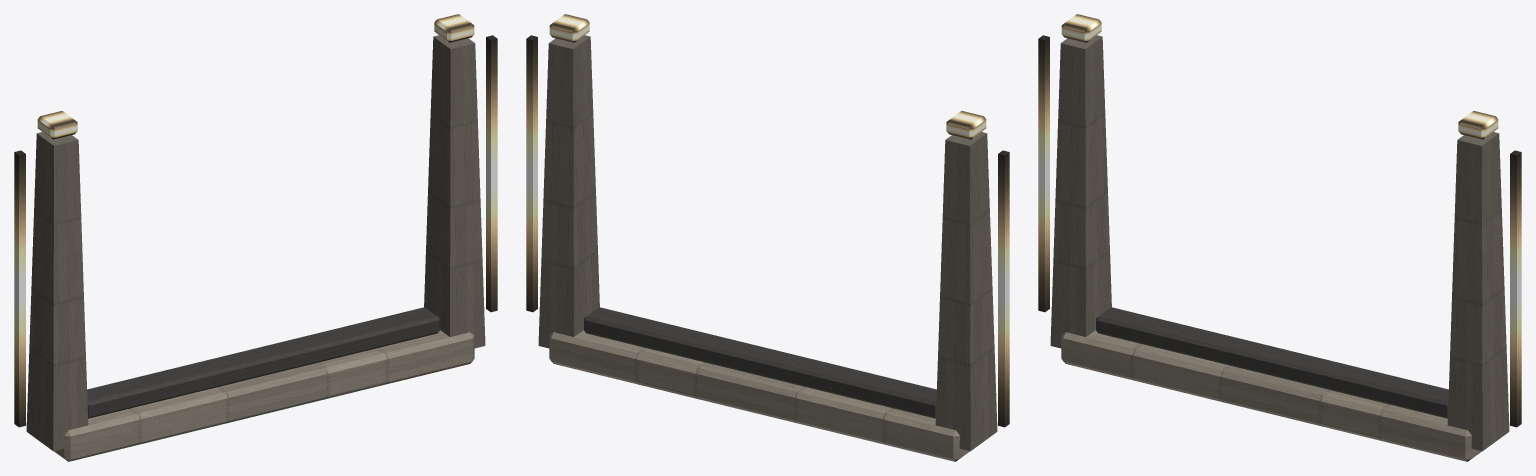
The model's file is dep_shieldwall.obj.
3 renders of one model, left to right at view 1: azimuth 30°, elevation 25°; view 2: azimuth 150°, elevation 25°; view 3: azimuth 330°, elevation 25°, orthographic.
Visible parts, largest first — view 1: dep_shieldwall; view 2: dep_shieldwall; view 3: dep_shieldwall.
Part boxes in pixels (<box>): dep_shieldwall: <box>14,14,497,461</box>; dep_shieldwall: <box>526,14,1009,461</box>; dep_shieldwall: <box>1038,14,1521,461</box>.
Size of the model in its own units: 3.5 by 2.33 by 0.4.
1 material, 1 textured.
